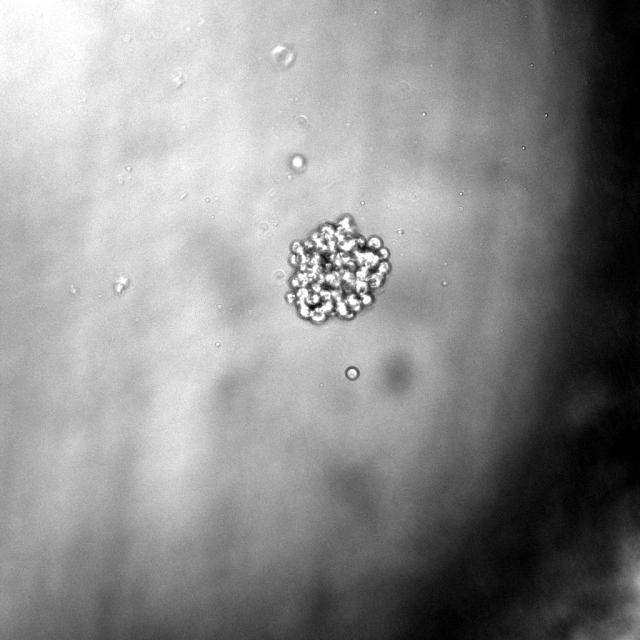organoid: (284, 214, 391, 324), (344, 366, 359, 380)
